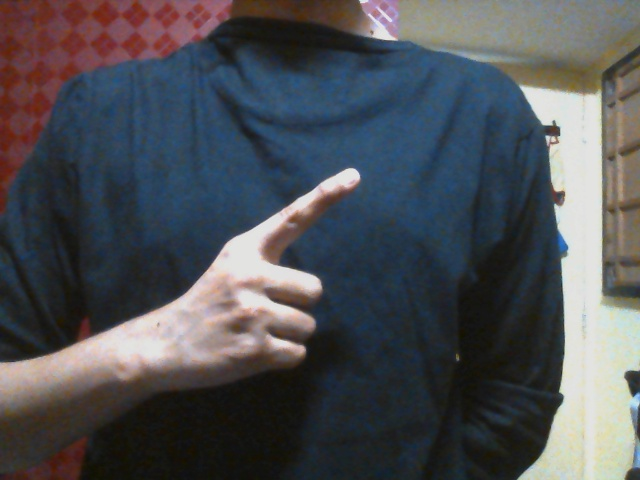I: (186, 167, 362, 387)
